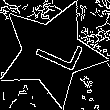L_NW: (22, 28, 82, 77)
